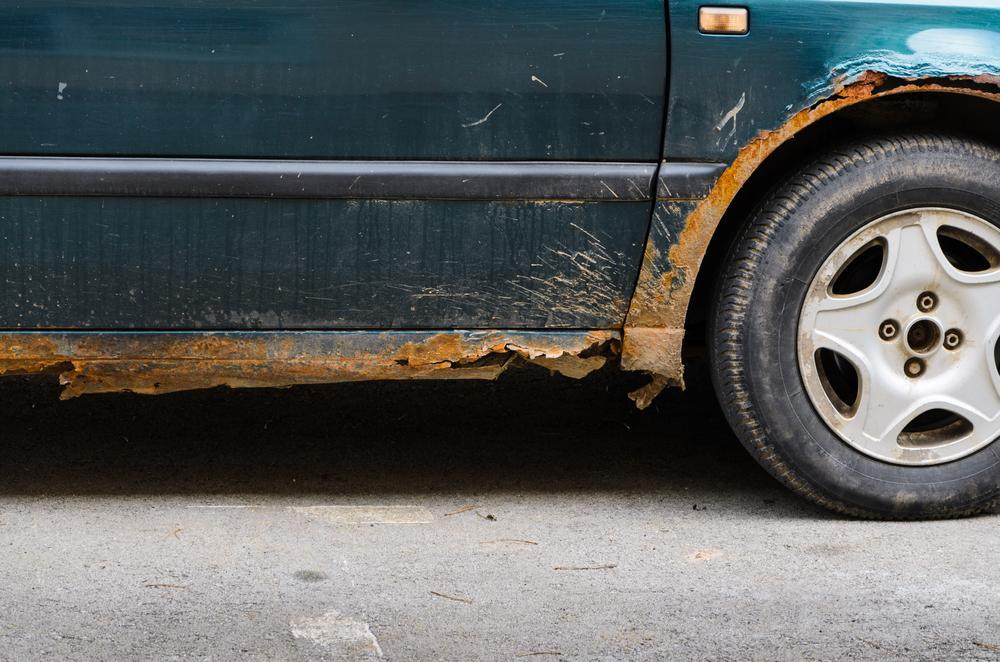corrosion: (618, 65, 991, 295), (1, 300, 698, 423)
